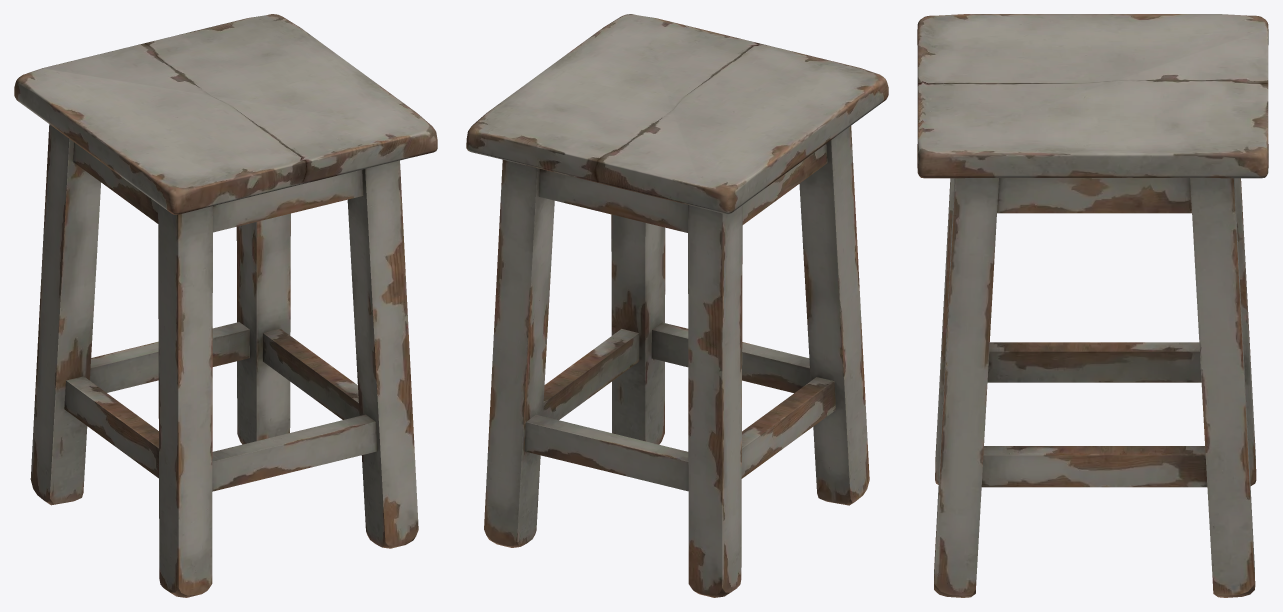
File: painted_wooden_stool.glb
The picture shows the model from 3 angles, left to right: view 1: azimuth 30°, elevation 25°; view 2: azimuth 150°, elevation 25°; view 3: azimuth 270°, elevation 25°; orthographic projection. The views are drawn at different scales.
Visible parts, largest first — view 1: painted_wooden_stool; view 2: painted_wooden_stool; view 3: painted_wooden_stool.
Boxes of the visible parts, left/top/right/bottom form: painted_wooden_stool: left=14, top=14, right=437, bottom=597; painted_wooden_stool: left=466, top=14, right=888, bottom=597; painted_wooden_stool: left=917, top=14, right=1268, bottom=597.
Size of the model in its own units: 0.3848 by 0.5789 by 0.4061.
Materials: 1 (1 with a texture image).
